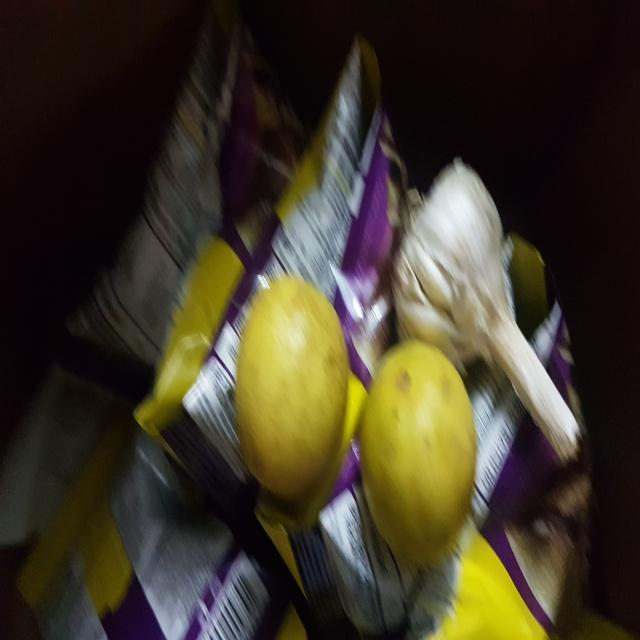garlic: (380, 141, 588, 470)
lemon: (349, 330, 495, 556), (231, 270, 359, 512)
